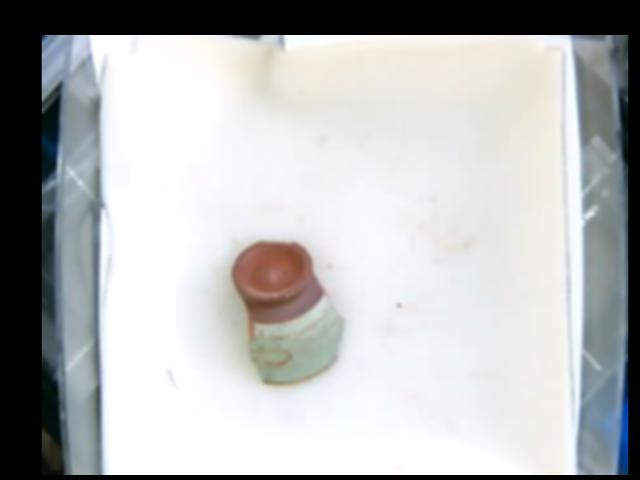China: (230, 238, 344, 386)
